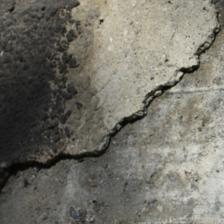Crack: (0, 146, 145, 210), (91, 38, 169, 136)
